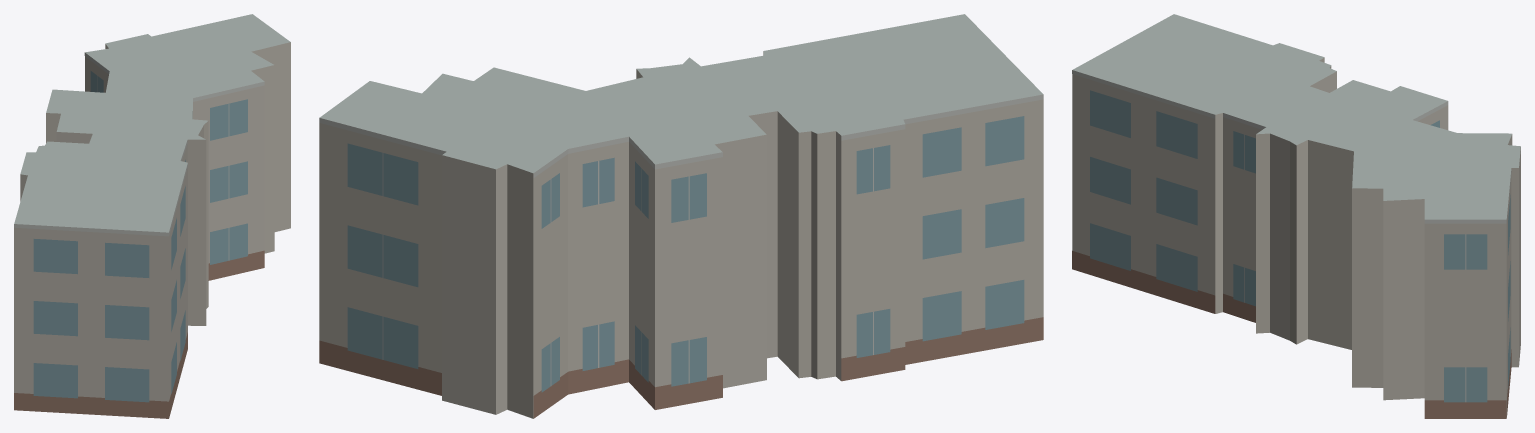
File: survey-upis-32617753.glb
The picture shows the model from 3 angles, left to right: view 1: azimuth 30°, elevation 25°; view 2: azimuth 150°, elevation 25°; view 3: azimuth 270°, elevation 25°; orthographic projection. The views are drawn at different scales.
Parts seen in each view (by area): view 1: survey-upis-32617753.tmp; view 2: survey-upis-32617753.tmp; view 3: survey-upis-32617753.tmp.
Boxes of the visible parts, left/top/right/bottom form: survey-upis-32617753.tmp: left=14, top=14, right=290, bottom=418; survey-upis-32617753.tmp: left=319, top=14, right=1043, bottom=418; survey-upis-32617753.tmp: left=1072, top=14, right=1520, bottom=418.
Bounding box in the file's own units: 26.55 × 11.99 × 24.47.
